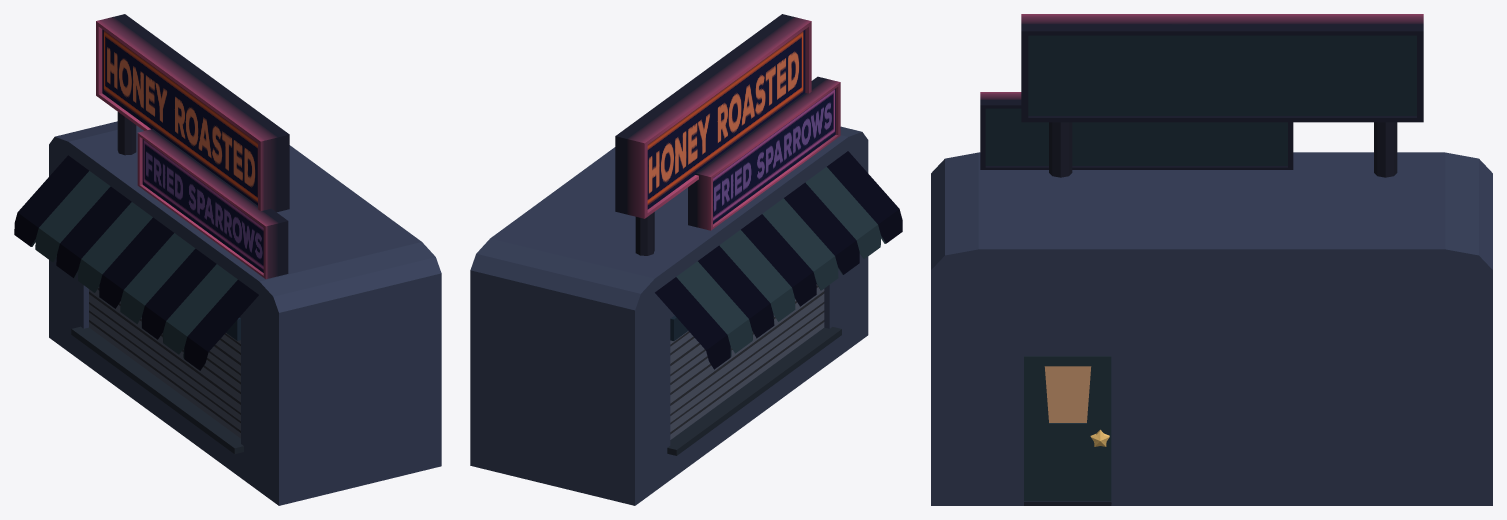
Rendered from Building_StreetCart06.fbx.
3 renders of one model, left to right at view 1: azimuth 30°, elevation 25°; view 2: azimuth 150°, elevation 25°; view 3: azimuth 270°, elevation 25°, orthographic. The views are drawn at different scales.
Visible parts, largest first — view 1: Cube.698, Cube.700, Cube.702; view 2: Cube.698, Cube.700, Cube.702; view 3: Cube.698, Cube.700, Cube.705.
Boxes of the visible parts, x1,y1,x2,y2 form: Cube.698: (14, 121, 441, 505); Cube.700: (96, 14, 289, 279); Cube.702: (89, 287, 240, 438); Cube.698: (470, 126, 902, 505); Cube.700: (615, 14, 840, 255); Cube.702: (670, 284, 824, 439); Cube.698: (931, 152, 1492, 505); Cube.700: (980, 14, 1423, 177); Cube.705: (1024, 356, 1111, 501).
Bounding box in the file's own units: 234 × 330 × 414.
